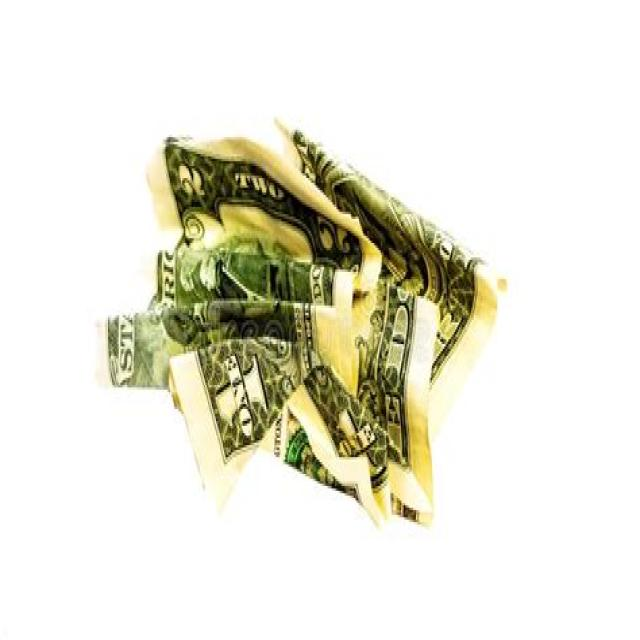banknote: (167, 118, 527, 533), (97, 124, 384, 389), (206, 352, 276, 447), (174, 154, 207, 204)
